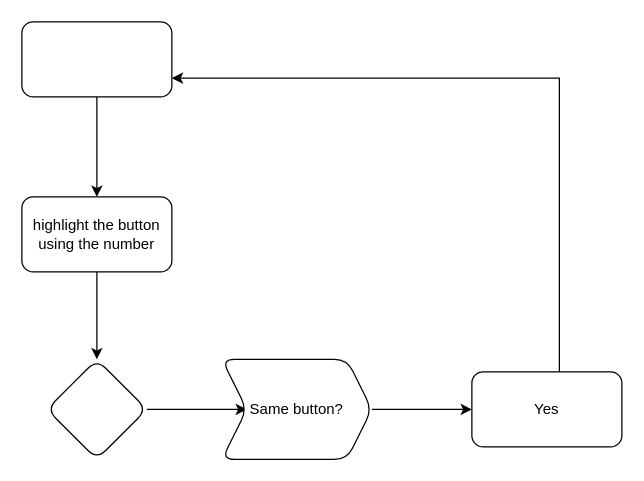
Image size: 644x481. Some labels were removed from this diagram. Here are the shapes that lost their labels. From the top down, the centre of each, then its label:
point (96, 59): Generate a random Number
point (96, 408): button press
